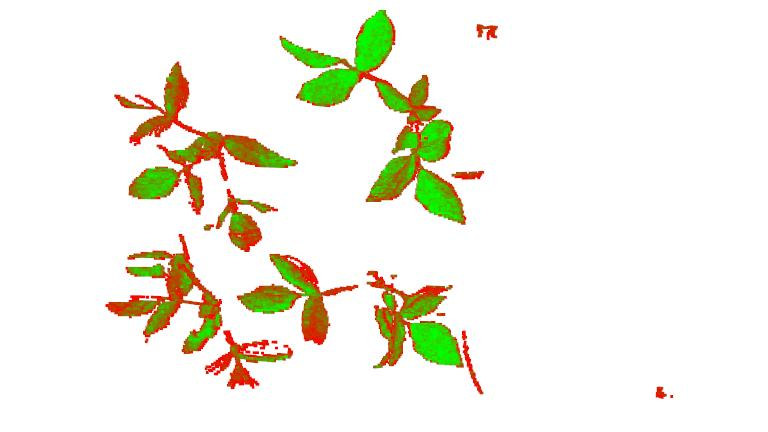mungbean: (279, 9, 468, 226), (113, 62, 298, 252), (103, 232, 293, 394), (232, 253, 464, 371)
